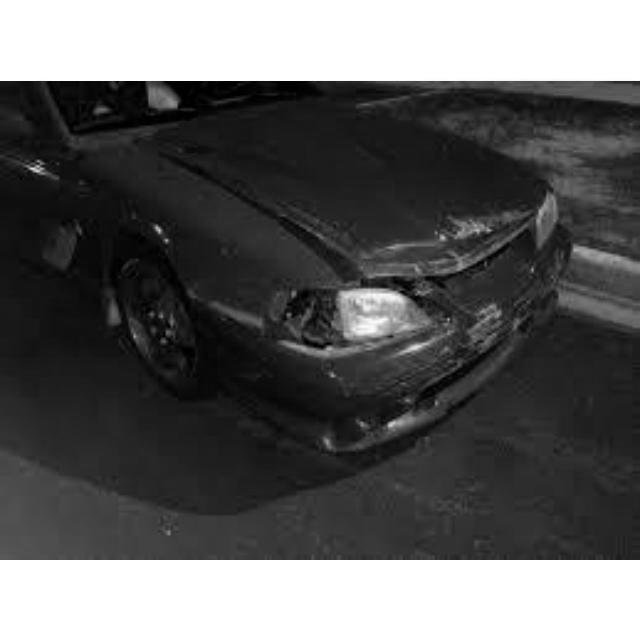Headlight-damage: (258, 268, 445, 352)
bonnet-dent: (177, 124, 522, 258)
front-bumper-dent: (329, 330, 489, 446)
